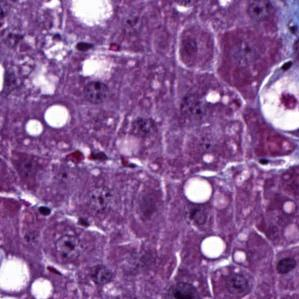ballooning: (255, 57, 296, 136)
